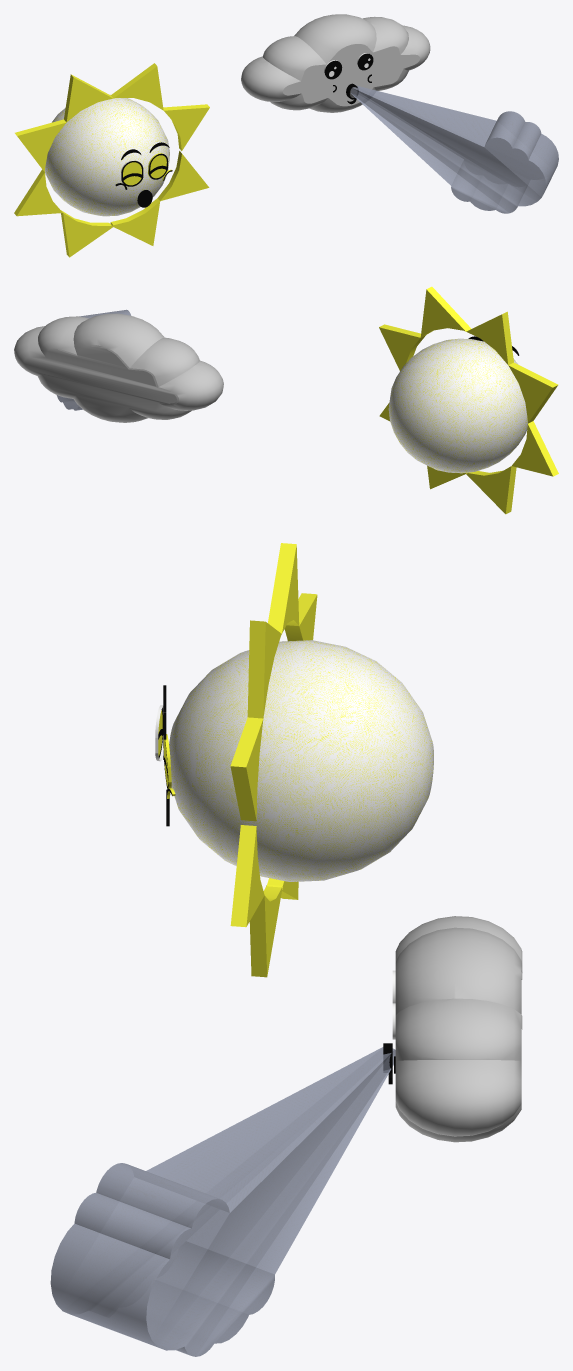
Rendered from option2.dae.
3 views of the same model, one above another, from view 1: azimuth 30°, elevation 25°; view 2: azimuth 150°, elevation 25°; view 3: azimuth 270°, elevation 25° (orthographic). The views are drawn at different scales.
Parts seen in each view (by area): view 1: group_3, group_1, Component_8, group_12; view 2: group_1, Component_8, group_12, group_3; view 3: group_3, Component_8, group_1, group_12.
Part boxes in pixels (x1,y1,x2,y2): group_3: [351, 85, 558, 213]; group_1: [241, 14, 430, 112]; Component_8: [44, 94, 169, 216]; group_12: [14, 63, 209, 257]; group_1: [14, 313, 223, 422]; Component_8: [388, 338, 527, 473]; group_12: [379, 286, 558, 514]; group_3: [56, 309, 131, 410]; group_3: [50, 1047, 395, 1356]; Component_8: [169, 640, 433, 881]; group_1: [395, 916, 522, 1142]; group_12: [230, 543, 317, 977].
Size of the model in its own units: 1431 by 581 by 540.
